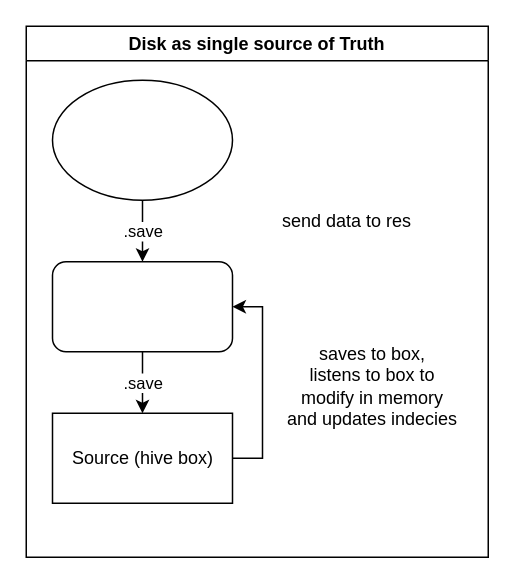
Image size: 515x584. Some labels were removed from this diagram. The box of each missing label's shape, as (x1, y1, x2, y2) in pixels:
Process (service): (51, 79, 232, 200)
Reservoir: (51, 260, 232, 352)
